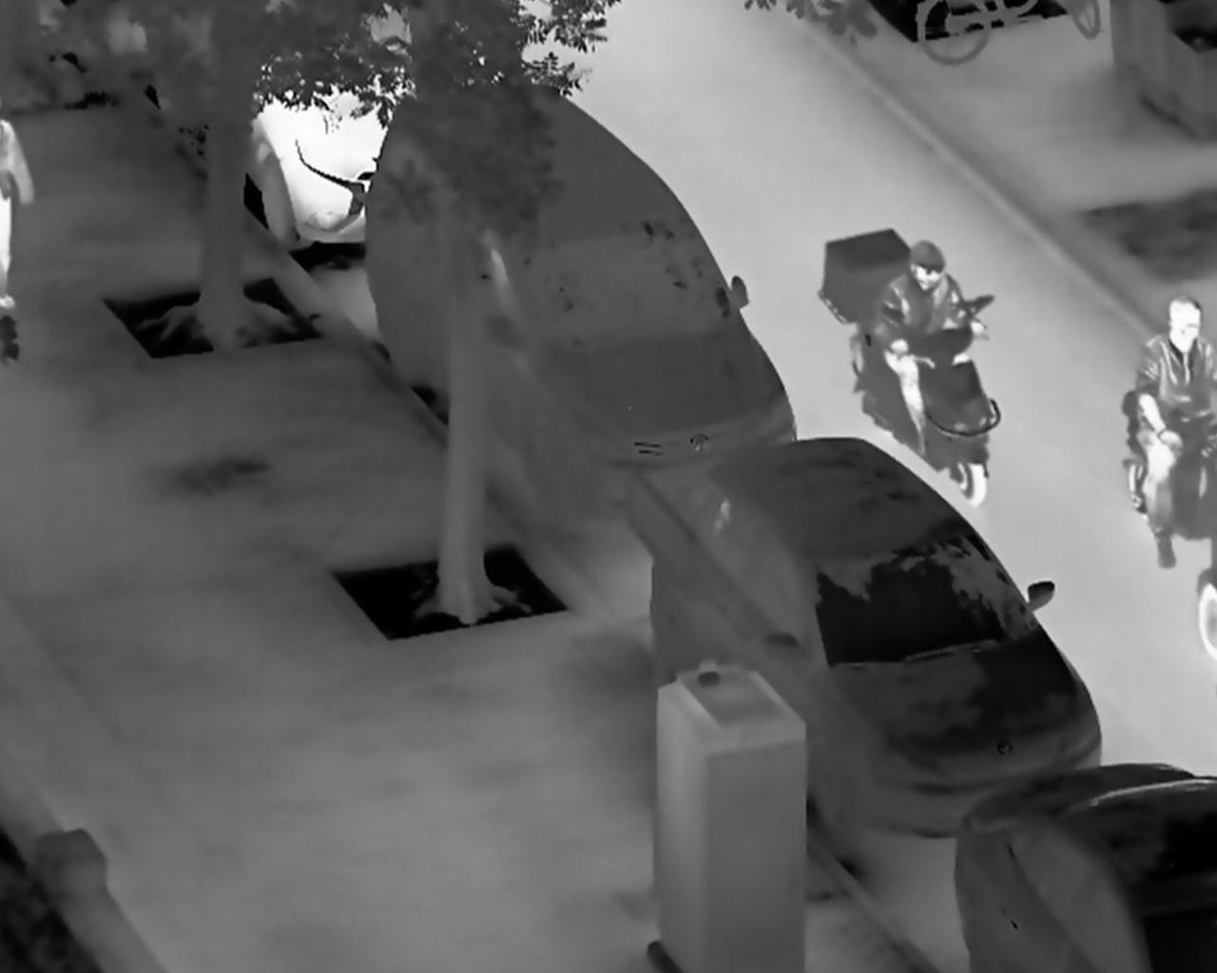person: (874, 238, 991, 460), (1133, 294, 1217, 573)
